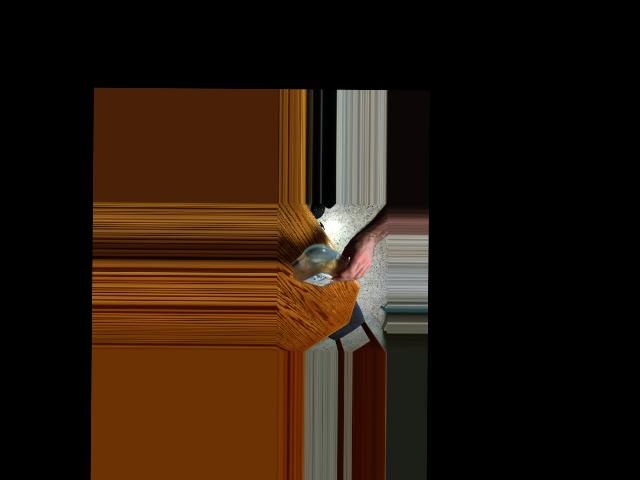cheese: (294, 249, 358, 285)
